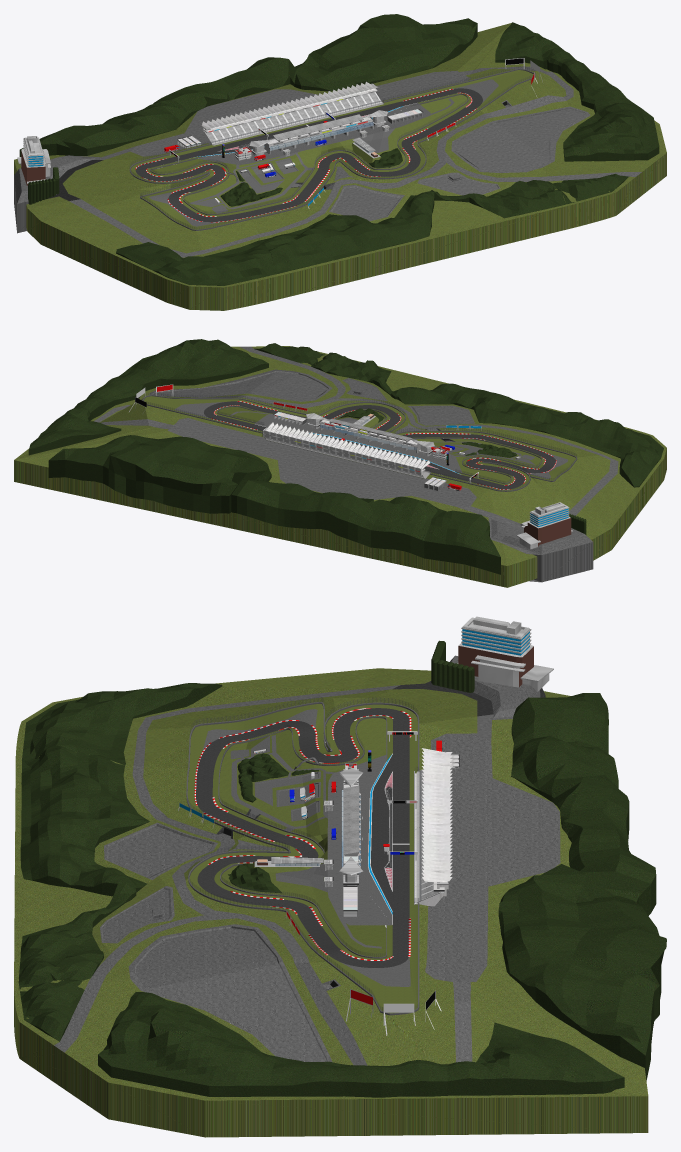
The model's file is FJ_CIRCUIT_Revised.glb.
3 views of the same model, one above another, from view 1: azimuth 30°, elevation 25°; view 2: azimuth 150°, elevation 25°; view 3: azimuth 270°, elevation 25° (orthographic). The views are drawn at different scales.
Visible parts, largest first — view 1: ground_out, ground_forest_out, ground_concrete, ground_inside, ground_maincourse, ground_courseside, stand_roof, ground_paddock, paddock, sidewall, out_mesh, forest_in (+4 smaller); view 2: ground_forest_out, ground_out, ground_concrete, ground_maincourse, stand_roof, ground_courseside, ground_inside, sidewall, paddock, ground_paddock, museum_bill, out_mesh (+3 smaller); view 3: ground_forest_out, ground_out, ground_concrete, ground_maincourse, ground_inside, ground_courseside, ground_paddock, stand_roof, museum_bill, sidewall, paddock, forest_in (+7 smaller).
Part boxes in pixels (box(x1,y1,x2,y2)): ground_out: box(14, 23, 666, 310); ground_forest_out: box(19, 14, 659, 285); ground_concrete: box(130, 71, 590, 221); ground_inside: box(151, 95, 467, 213); ground_maincourse: box(135, 88, 482, 222); ground_courseside: box(130, 70, 533, 229); stand_roof: box(201, 81, 383, 145); ground_paddock: box(149, 79, 498, 226); paddock: box(222, 109, 423, 160); sidewall: box(129, 68, 535, 230); out_mesh: box(129, 66, 534, 229); forest_in: box(220, 148, 402, 206); ground_forest_out: box(28, 339, 663, 574); ground_out: box(14, 346, 666, 587); ground_concrete: box(149, 369, 476, 506); ground_maincourse: box(204, 401, 555, 489); stand_roof: box(262, 422, 430, 478); ground_courseside: box(143, 396, 576, 490); ground_inside: box(218, 407, 541, 483); sidewall: box(142, 395, 577, 491); paddock: box(273, 411, 449, 465); ground_paddock: box(174, 402, 567, 478); museum_bill: box(516, 502, 572, 549); out_mesh: box(142, 392, 576, 490); ground_forest_out: box(18, 683, 666, 1097); ground_out: box(14, 655, 648, 1137); ground_concrete: box(100, 733, 560, 1062); ground_maincourse: box(196, 708, 409, 967); ground_inside: box(219, 718, 386, 956); ground_courseside: box(187, 704, 417, 1013); ground_paddock: box(202, 709, 410, 986); stand_roof: box(414, 748, 452, 906); museum_bill: box(457, 616, 553, 691); sidewall: box(186, 702, 419, 1015); paddock: box(339, 750, 371, 916); forest_in: box(228, 753, 318, 893).
Size of the model in its own units: 398 by 48.65 by 253.
21 materials, 10 textured.
